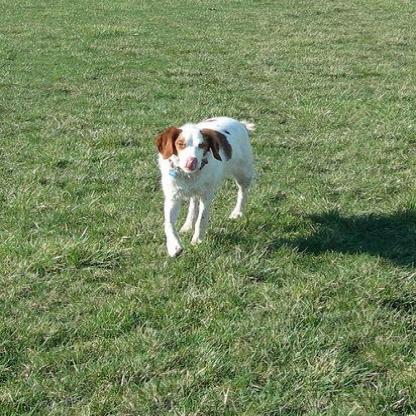Brittany_spaniel: (148, 113, 256, 259)
